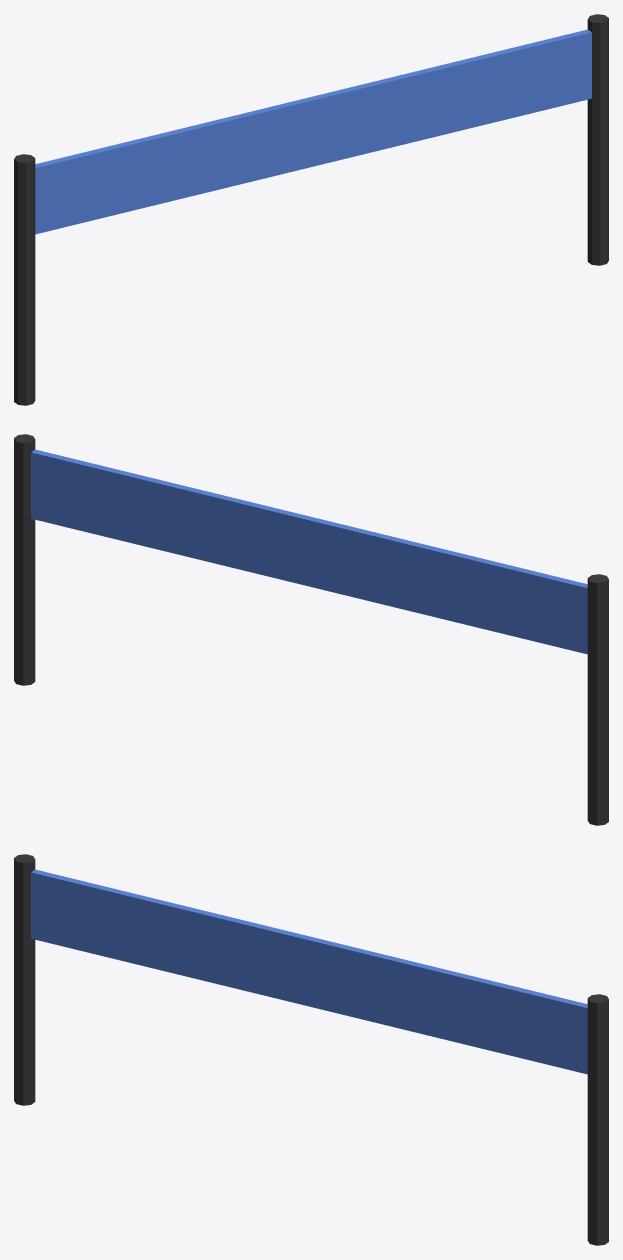
The model's file is Finish Line.fbx.
3 views of the same model, one above another, from view 1: azimuth 30°, elevation 25°; view 2: azimuth 150°, elevation 25°; view 3: azimuth 330°, elevation 25° (orthographic).
Parts seen in each view (by area): view 1: Finish Line; view 2: Finish Line; view 3: Finish Line.
Part boxes in pixels (left/top/right/bottom): Finish Line: left=14, top=14, right=608, bottom=405; Finish Line: left=14, top=434, right=608, bottom=825; Finish Line: left=14, top=854, right=608, bottom=1245.
Bounding box in the file's own units: 2549 × 1000 × 73.91.
